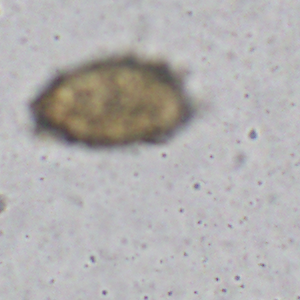Fasciola_hepatica_egg: (29, 55, 193, 148)
